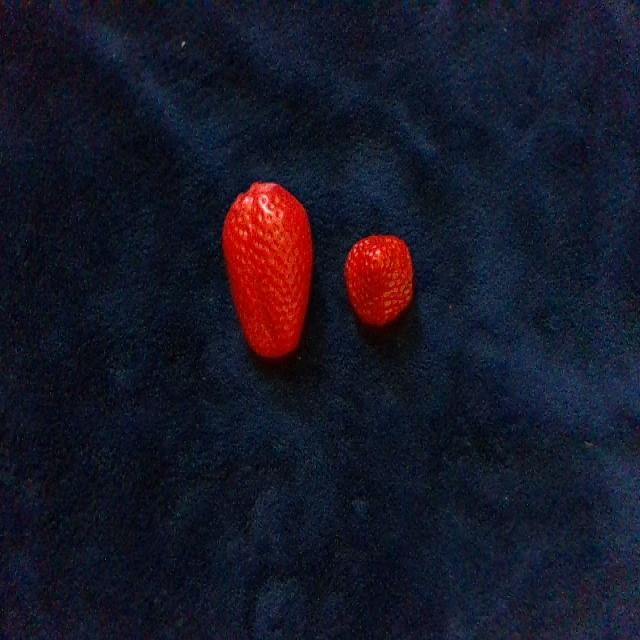chica_roja: (345, 236, 412, 324)
grande_roja: (222, 183, 311, 356)
